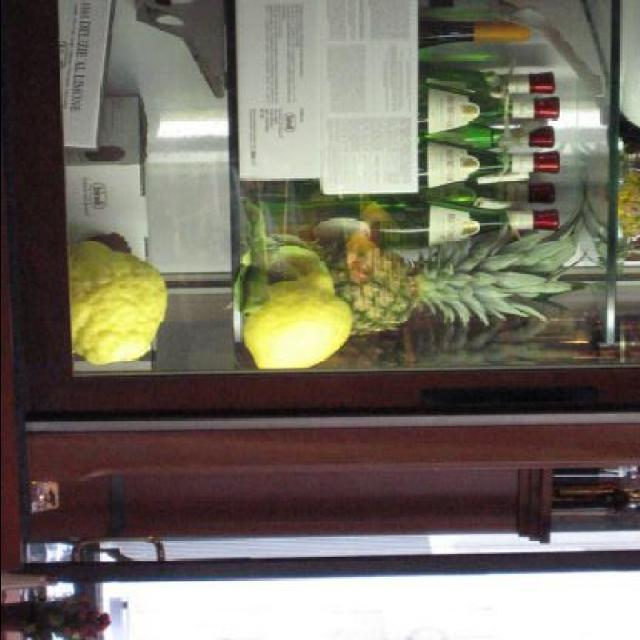Pineapple: (321, 174, 588, 332)
